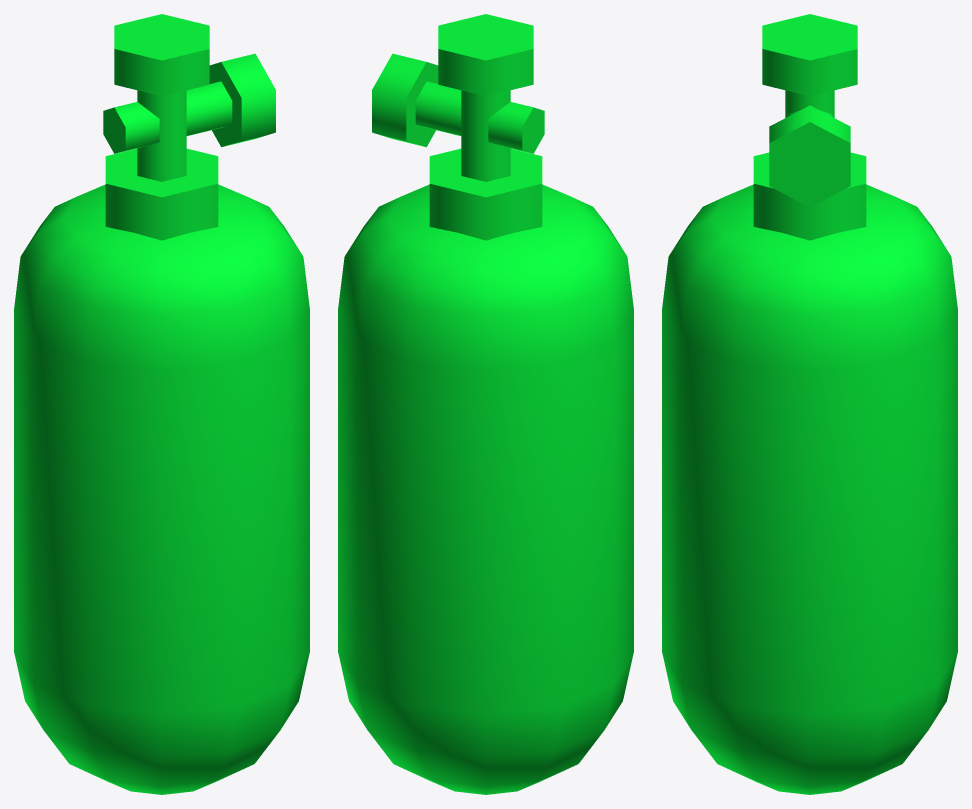
Rendered from Nitro.FBX.
The picture shows the model from 3 angles, left to right: view 1: azimuth 30°, elevation 25°; view 2: azimuth 150°, elevation 25°; view 3: azimuth 270°, elevation 25°; orthographic projection.
Visible parts, largest first — view 1: Line001; view 2: Line001; view 3: Line001.
Boxes of the visible parts, <box> form: Line001: <box>14,14,309,794</box>; Line001: <box>338,14,633,794</box>; Line001: <box>662,14,957,794</box>.
Bounding box in the file's own units: 57.34 × 57.34 × 159.
